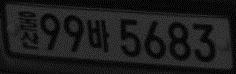3: (192, 22, 216, 63)
5: (119, 17, 141, 58)
6: (143, 19, 166, 59)
8: (167, 21, 190, 61)
9: (62, 13, 84, 52), (40, 11, 61, 50)
바: (86, 18, 110, 53)
울산_V: (18, 10, 39, 50)
